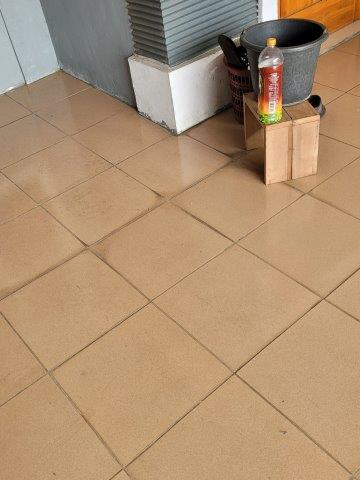botolplastik: (257, 38, 284, 123)
